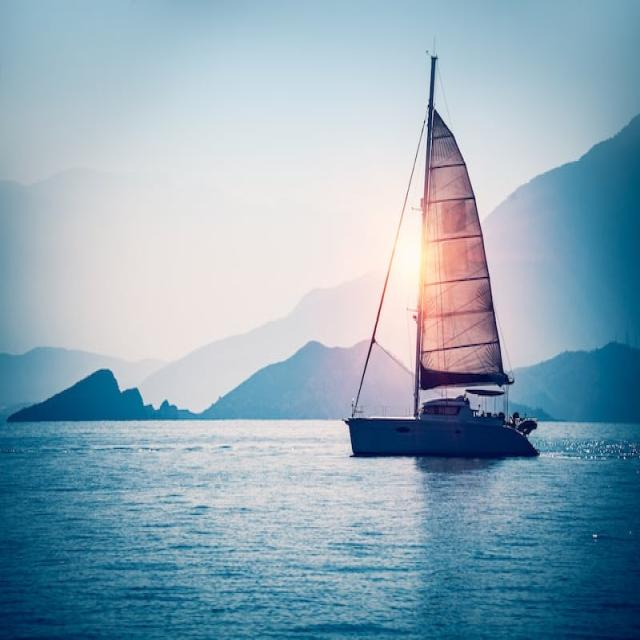boat: (340, 38, 551, 502)
